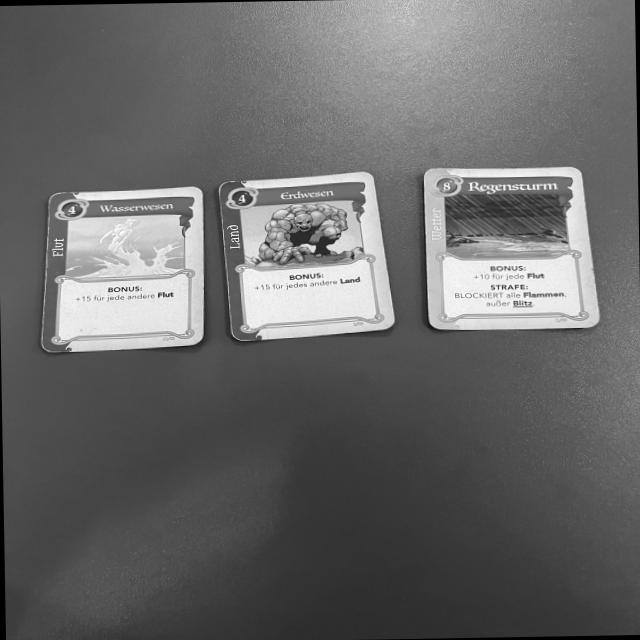Earth Elemental: (218, 167, 401, 345)
Rainstorm: (421, 164, 607, 334)
Water Elemental: (41, 186, 207, 352)
